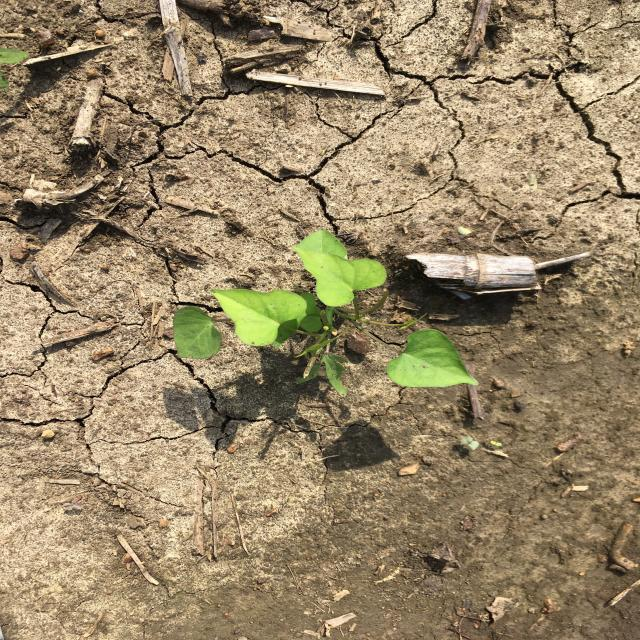MorningGlory: (170, 225, 484, 399)
